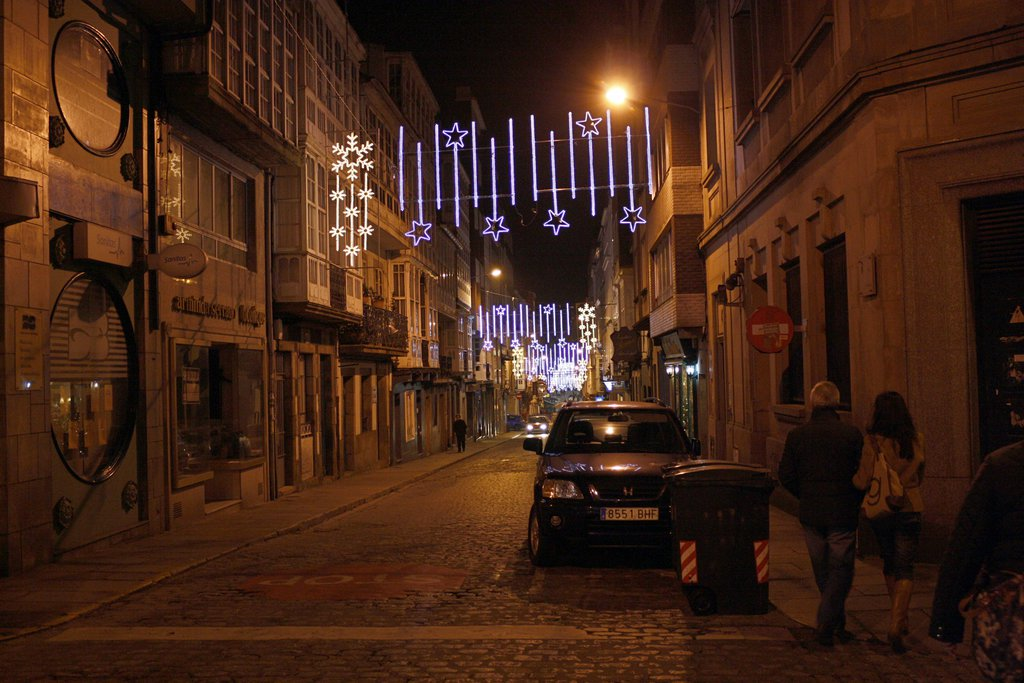car: (520, 411, 559, 439)
